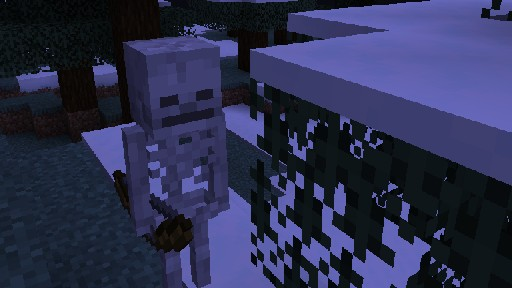skeleton: (111, 34, 229, 288)
